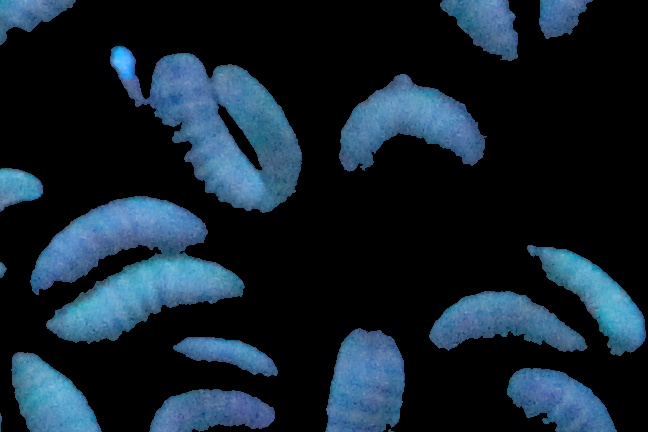larvae: (28, 195, 210, 296), (144, 52, 256, 213), (46, 263, 245, 342), (341, 80, 487, 172), (525, 240, 645, 350), (214, 60, 300, 212), (427, 291, 585, 354), (325, 329, 409, 432), (7, 351, 105, 432), (502, 367, 618, 432), (152, 384, 277, 432), (434, 1, 524, 64), (171, 334, 286, 380)
